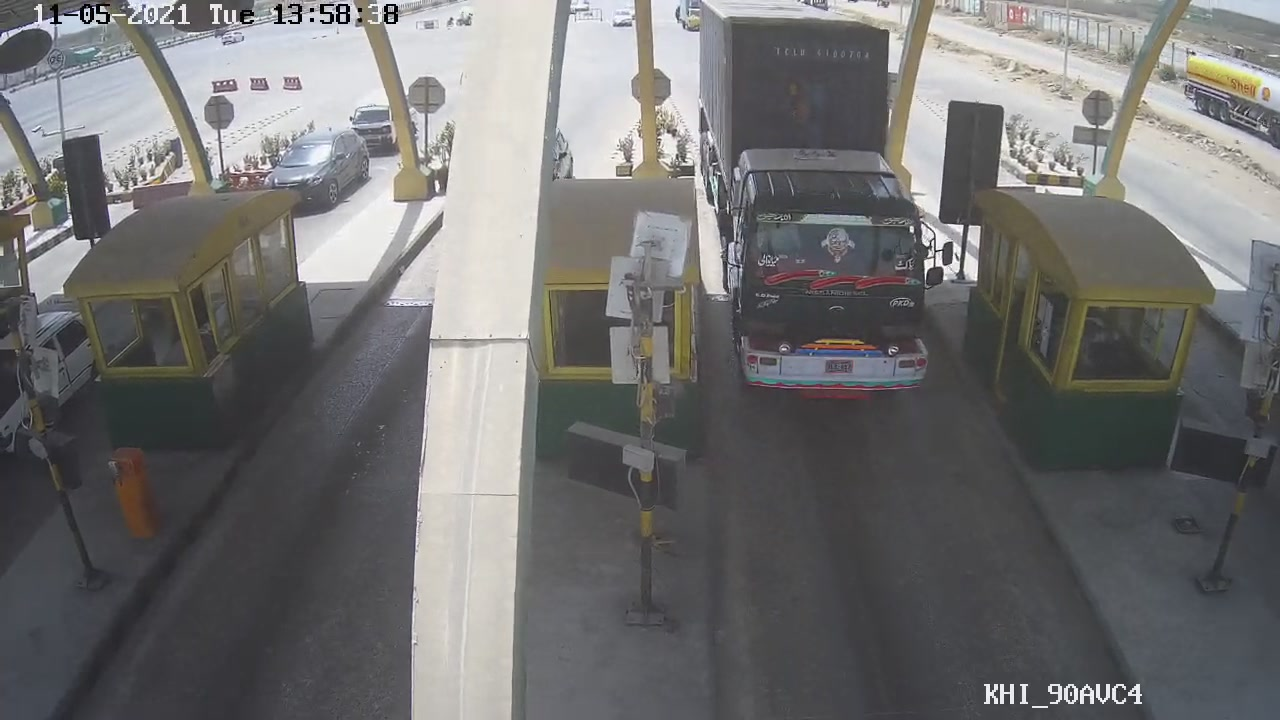F6: (687, 4, 956, 399)
